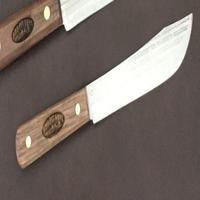knife: (14, 10, 194, 173)
